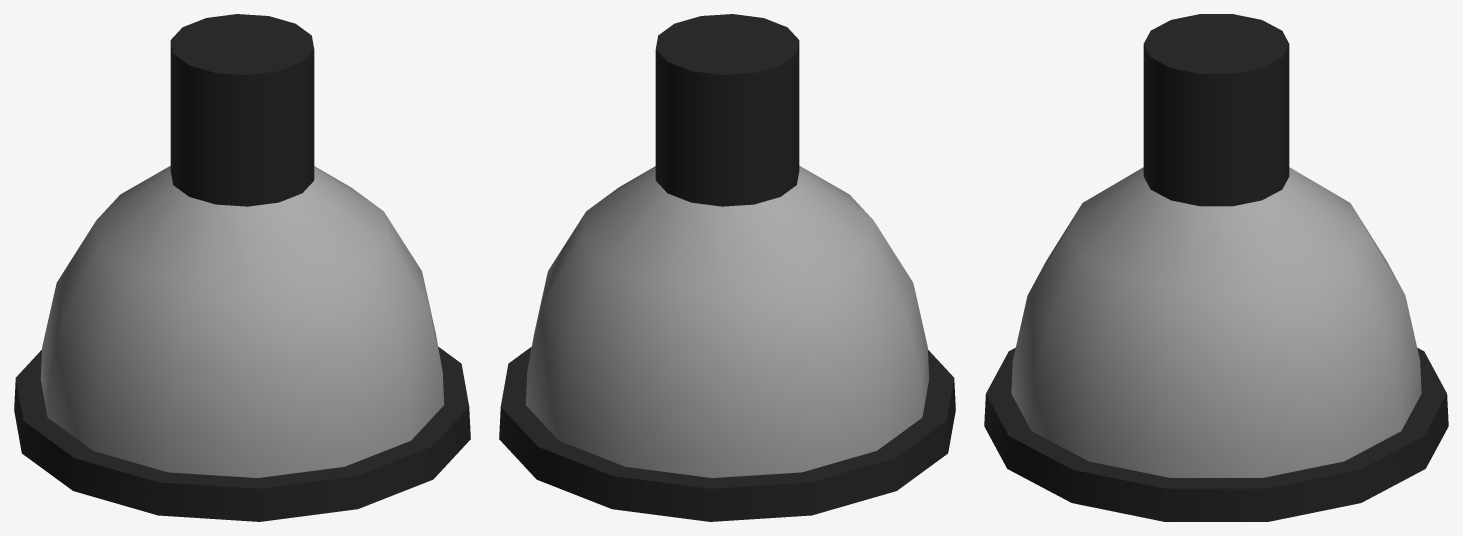
Rendered from Spotlight Stadium.fbx.
3 views of the same model, side by side, from view 1: azimuth 30°, elevation 25°; view 2: azimuth 150°, elevation 25°; view 3: azimuth 270°, elevation 25° (orthographic).
Visible parts, largest first — view 1: Spotlight Stadium; view 2: Spotlight Stadium; view 3: Spotlight Stadium.
Part boxes in pixels (box(x1,y1,x2,y2)): Spotlight Stadium: box(14, 14, 470, 521); Spotlight Stadium: box(499, 14, 955, 521); Spotlight Stadium: box(984, 14, 1448, 521).
Size of the model in its own units: 116 by 108 by 119.
